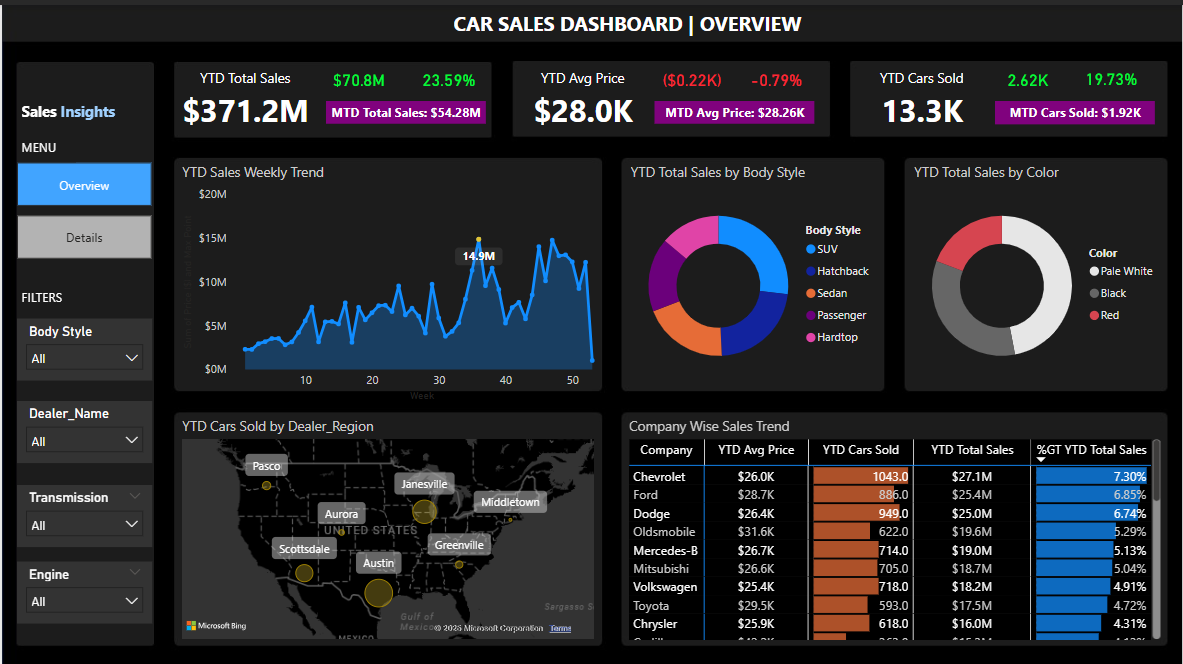

What the dashboard file says about the page in this screenshot:
{"tool":"powerbi","page":{"name":"Overview","canvas":[1280,720],"ordinal":0},"visuals":[{"type":"card","title":"YTD Total Sales","fields":{"Values":["car_data.YTD Total Sales"]},"box":[188.1,67.6,149.9,72],"z":0},{"type":"card","fields":{"Values":["car_data.Sales Difference"]},"box":[346.8,63.2,80.8,36.7],"z":1000},{"type":"card","fields":{"Values":["car_data.YoY Sales Growth"]},"box":[443.8,63.2,80.8,36.7],"z":2000},{"type":"card","fields":{"Values":["car_data.MTD KPI"]},"box":[351.2,104.3,173.4,25],"z":3000},{"type":"card","title":"YTD Avg Price","fields":{"Values":["car_data.YTD Avg Price"]},"box":[555.4,67.6,149.9,72],"z":4000},{"type":"card","fields":{"Values":["car_data.Avg Price Diff"]},"box":[706.8,63.2,80.8,36.7],"z":5000},{"type":"card","fields":{"Values":["car_data.YoY Avg Price Growth"]},"box":[799.3,63.2,80.8,36.7],"z":6000},{"type":"card","fields":{"Values":["car_data.MTD Avg Price KPI"]},"box":[706.8,104.3,173.4,25],"z":7000},{"type":"card","title":"YTD Cars Sold","fields":{"Values":["car_data.YTD Cars Sold"]},"box":[922.8,67.6,149.9,72],"z":8000},{"type":"card","fields":{"Values":["car_data.Cars Sold Diff"]},"box":[1072.7,63.2,80.8,36.7],"z":9000},{"type":"card","fields":{"Values":["car_data.YoY Car Sold Growth"]},"box":[1162.3,61.7,79.3,38.2],"z":10000},{"type":"card","fields":{"Values":["car_data.MTD Cars Sold KPI"]},"box":[1076.2,103.7,173.4,25],"z":11000},{"type":"areaChart","title":"YTD Sales Weekly Trend","fields":{"Category":["Calendar.Week"],"Y":["Sum(car_data.Price ($))","car_data.Max Point"]},"box":[191,170.4,471.7,263],"z":12000},{"type":"donutChart","fields":{"Category":["car_data.Body Style"],"Y":["car_data.YTD Total Sales"]},"box":[675.9,170.4,277.7,246.9],"z":13000},{"type":"donutChart","fields":{"Y":["car_data.YTD Total Sales"],"Category":["car_data.Color"]},"box":[984.5,170.4,277.7,246.9],"z":14000},{"type":"map","fields":{"Category":["car_data.Dealer_Region"],"Size":["car_data.YTD Cars Sold"]},"box":[191,445.2,457,246.9],"z":15000},{"type":"pivotTable","title":"Company Wise Sales Trend","fields":{"Rows":["car_data.Company"],"Values":["car_data.YTD Avg Price","car_data.YTD Cars Sold","car_data.YTD Total Sales","Divide(car_data.YTD Total Sales, ScopedEval(car_data.YTD Total Sales, []))"]},"box":[675.8,445.1,586.4,246.7],"z":16000},{"type":"textbox","box":[484.9,0,395.3,39.7],"z":17000},{"type":"slicer","fields":{"Values":["car_data.Body Style"]},"box":[16.2,340.4,146.9,67.6],"z":18000},{"type":"slicer","fields":{"Values":["car_data.Dealer_Name"]},"box":[16.2,430.1,146.9,67.6],"z":19000},{"type":"slicer","fields":{"Values":["car_data.Transmission"]},"box":[16.2,519.7,146.9,67.6],"z":20000},{"type":"slicer","fields":{"Values":["car_data.Engine"]},"box":[16.2,603.5,146.9,67.6],"z":21000},{"type":"textbox","box":[16.2,302.7,63.2,30.9],"z":22000},{"type":"pageNavigator","box":[16.2,170.4,146.9,104.3],"z":22001},{"type":"textbox","box":[16.2,99.9,132.2,42.6],"z":22002},{"type":"textbox","box":[16.2,139.6,63.2,30.9],"z":22003}]}

Visuals, with their boxes in screenshot pixels (x1, y1, x2, y2), scaled from the page's 1280x720 canvas onto the 1183x664 screenshot:
"YTD Total Sales" card: detection(174, 62, 312, 129)
card - car_data.Sales Difference: detection(321, 58, 395, 92)
card - car_data.YoY Sales Growth: detection(410, 58, 485, 92)
card - car_data.MTD KPI: detection(325, 96, 485, 119)
"YTD Avg Price" card: detection(513, 62, 652, 129)
card - car_data.Avg Price Diff: detection(653, 58, 728, 92)
card - car_data.YoY Avg Price Growth: detection(739, 58, 813, 92)
card - car_data.MTD Avg Price KPI: detection(653, 96, 813, 119)
"YTD Cars Sold" card: detection(853, 62, 991, 129)
card - car_data.Cars Sold Diff: detection(991, 58, 1066, 92)
card - car_data.YoY Car Sold Growth: detection(1074, 57, 1148, 92)
card - car_data.MTD Cars Sold KPI: detection(995, 96, 1155, 119)
"YTD Sales Weekly Trend" areaChart: detection(177, 157, 612, 400)
donutChart - car_data.Body Style x car_data.YTD Total Sales: detection(625, 157, 881, 385)
donutChart - car_data.YTD Total Sales x car_data.Color: detection(910, 157, 1167, 385)
map - car_data.Dealer_Region x car_data.YTD Cars Sold: detection(177, 411, 599, 638)
"Company Wise Sales Trend" pivotTable: detection(625, 410, 1167, 638)
textbox: detection(448, 0, 813, 37)
slicer - car_data.Body Style: detection(15, 314, 151, 376)
slicer - car_data.Dealer_Name: detection(15, 397, 151, 459)
slicer - car_data.Transmission: detection(15, 479, 151, 542)
slicer - car_data.Engine: detection(15, 557, 151, 619)
textbox: detection(15, 279, 73, 308)
pageNavigator: detection(15, 157, 151, 253)
textbox: detection(15, 92, 137, 131)
textbox: detection(15, 129, 73, 157)
